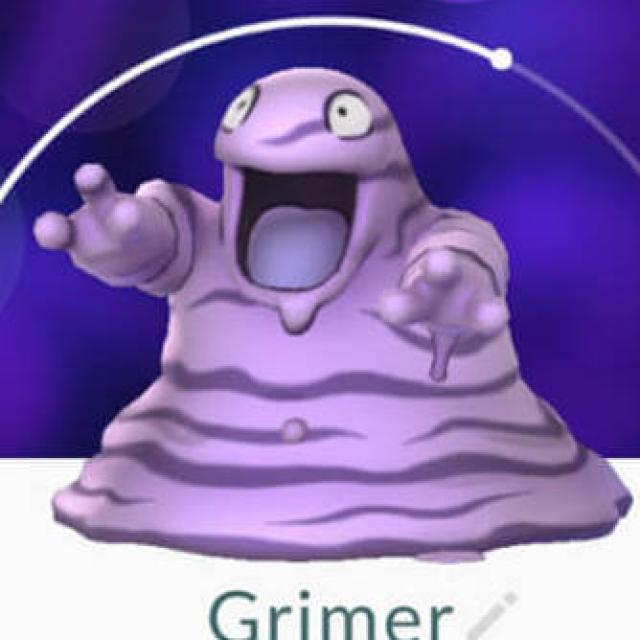Grimer: (110, 63, 539, 532)
